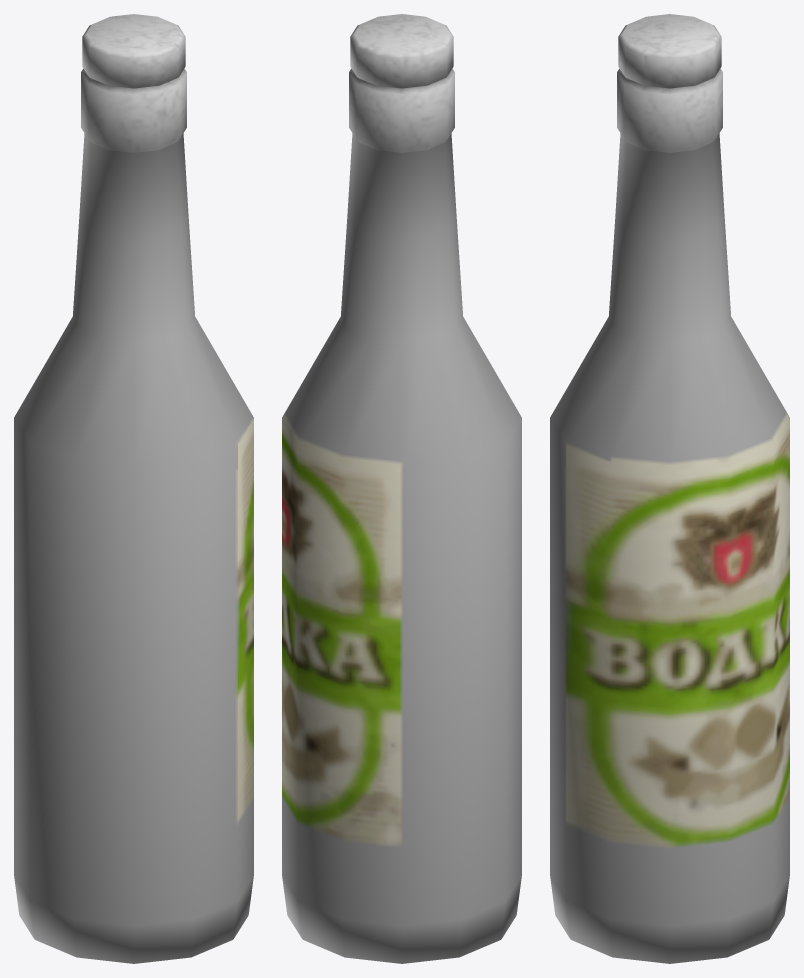
Rendered from alchogol2.fbx.
3 renders of one model, left to right at view 1: azimuth 30°, elevation 25°; view 2: azimuth 150°, elevation 25°; view 3: azimuth 270°, elevation 25°, orthographic.
Visible parts, largest first — view 1: Cylinder; view 2: Cylinder; view 3: Cylinder.
Boxes of the visible parts, left/top/right/bottom form: Cylinder: left=14, top=14, right=253, bottom=963; Cylinder: left=282, top=14, right=521, bottom=963; Cylinder: left=550, top=14, right=789, bottom=963.
Size of the model in its own units: 200 by 811 by 200.
2 materials, 2 textured.
